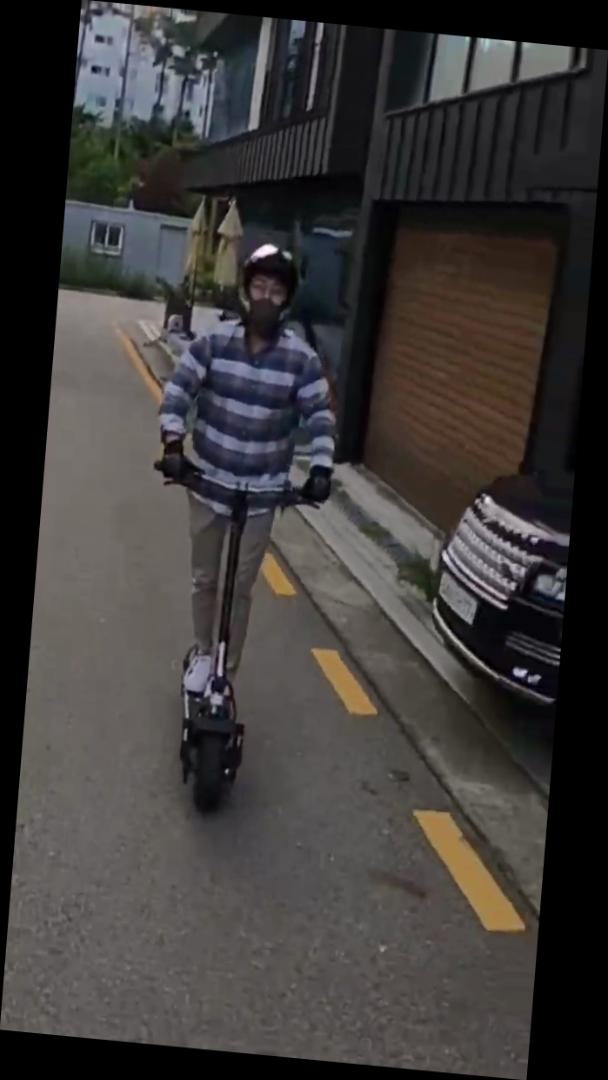helmet: (126, 234, 353, 827)
